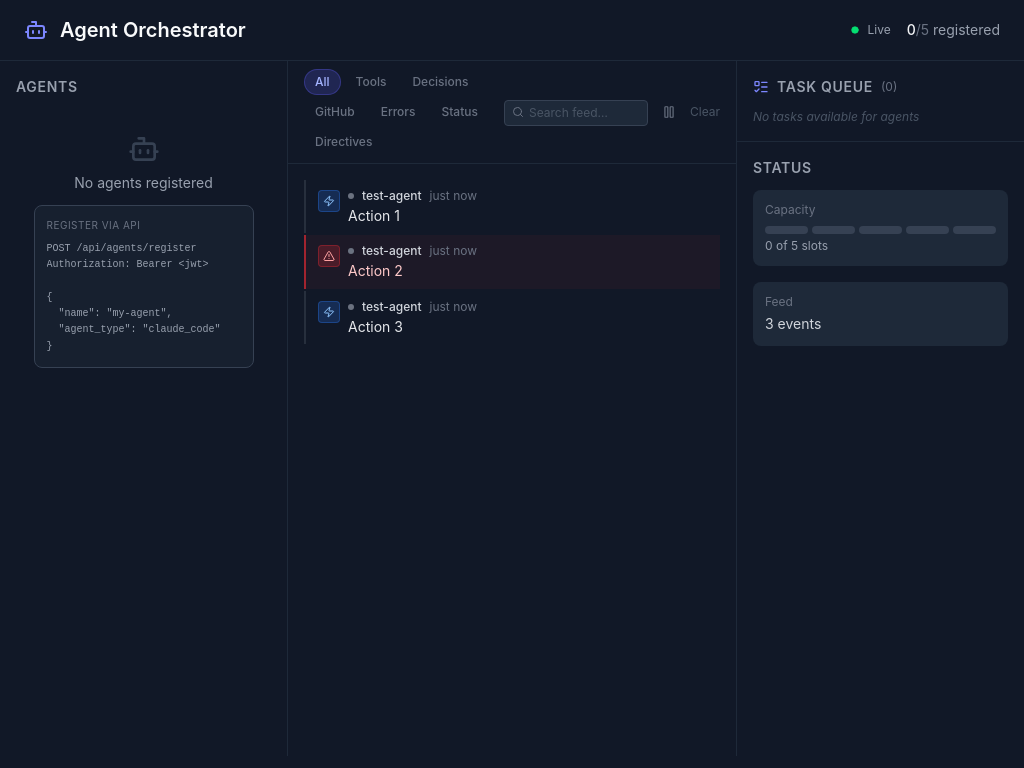
Test: AgentDashboard › shows filtered event count when filters active
Expected: the text "Feed" is shown, [765, 294, 793, 309]
Step 1. Click the button "Errors" → (398, 112), box [370, 99, 426, 125]
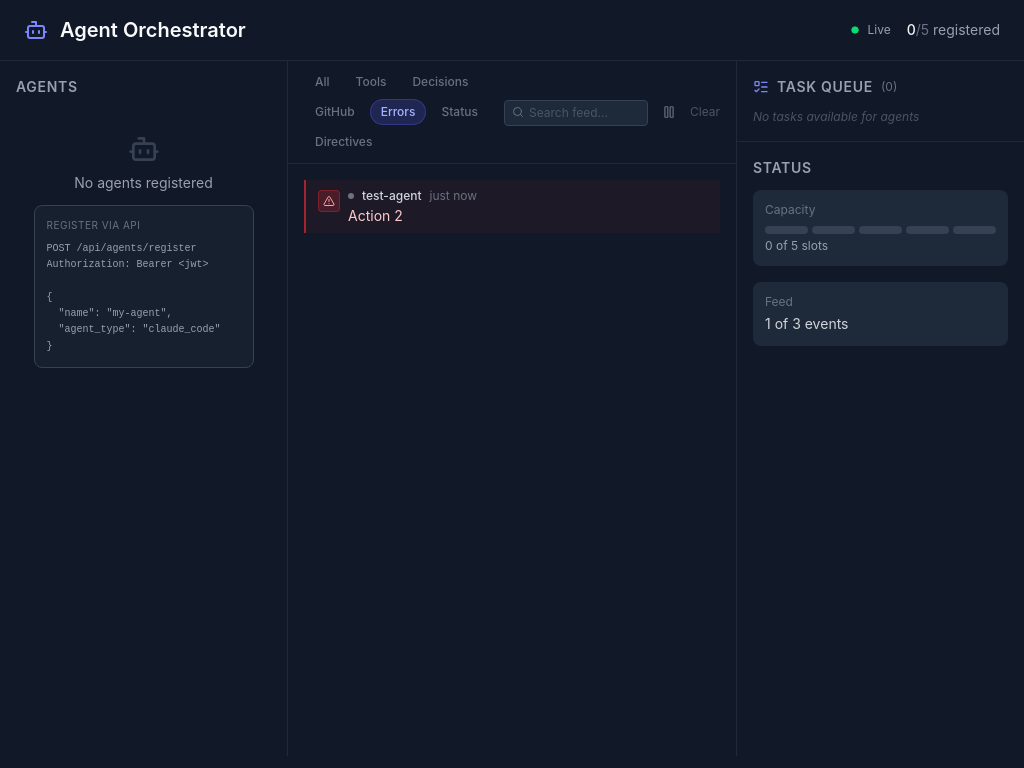
Expected: the text "1 of 3 events" is shown, [765, 315, 848, 332]
